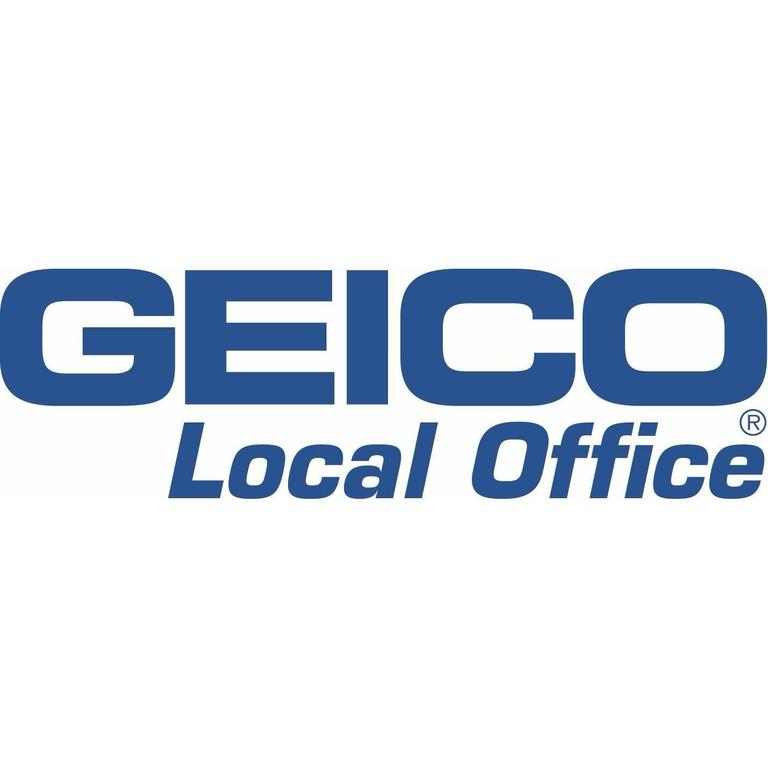Geico: (6, 219, 763, 411)
